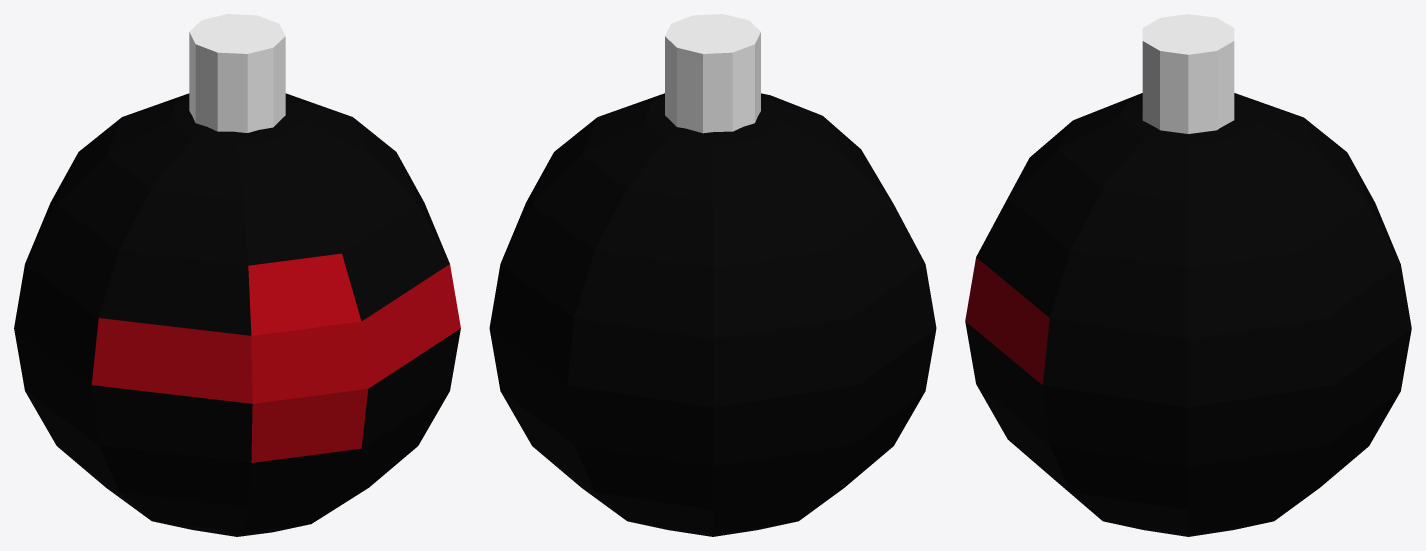
Rendered from bombEXP.fbx.
3 views of the same model, side by side, from view 1: azimuth 30°, elevation 25°; view 2: azimuth 150°, elevation 25°; view 3: azimuth 270°, elevation 25° (orthographic).
Parts seen in each view (by area): view 1: pSphere2; view 2: pSphere2; view 3: pSphere2.
Boxes of the visible parts, bbox=[...] form: pSphere2: bbox=[14, 14, 460, 536]; pSphere2: bbox=[489, 14, 936, 536]; pSphere2: bbox=[965, 14, 1411, 536].
Bounding box in the file's own units: 39.41 × 47.76 × 40.02.
